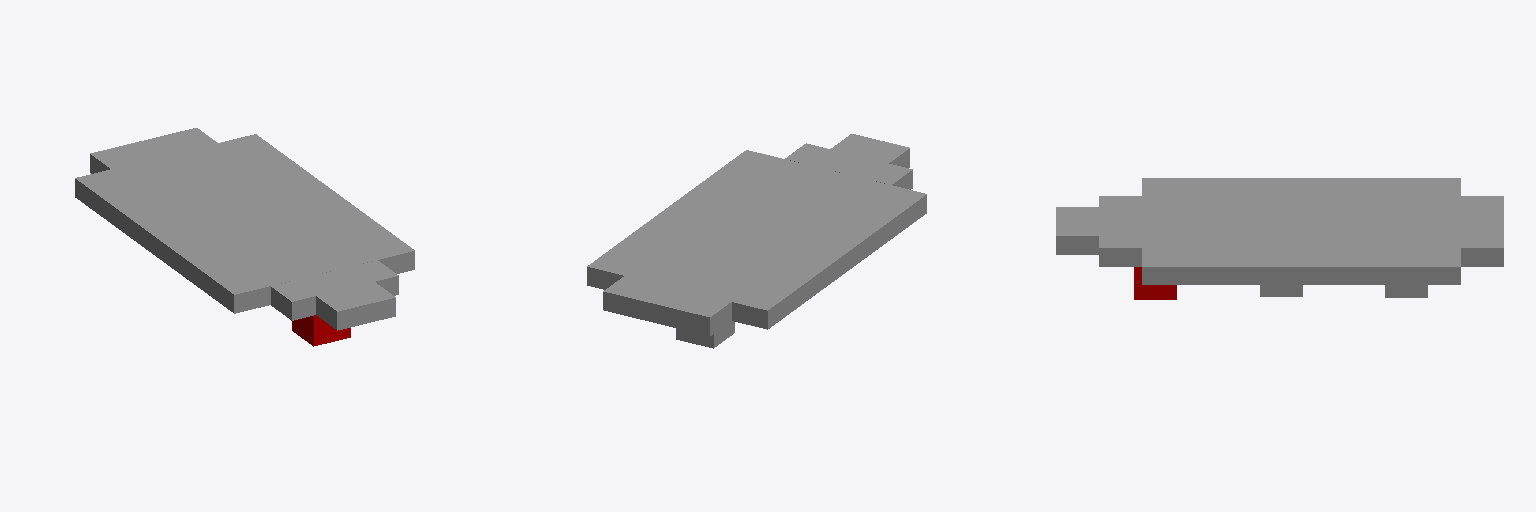
File: hoverboardTest.obj
3 views of the same model, side by side, from view 1: azimuth 30°, elevation 25°; view 2: azimuth 150°, elevation 25°; view 3: azimuth 270°, elevation 25° (orthographic).
Visible parts, largest first — view 1: Cube, Cube.001, Cube.003, Cube.006, Cube.002; view 2: Cube, Cube.006, Cube.001, Cube.003, Cube.004; view 3: Cube, Cube.001, Cube.006, Cube.003, Cube.002, Cube.004.
Part boxes in pixels (left/top/right/bottom): Cube: left=75, top=134, right=414, bottom=313; Cube.001: left=271, top=260, right=398, bottom=320; Cube.003: left=316, top=282, right=395, bottom=330; Cube.006: left=90, top=128, right=216, bottom=173; Cube.002: left=292, top=315, right=350, bottom=346; Cube: left=587, top=150, right=926, bottom=329; Cube.006: left=603, top=276, right=731, bottom=335; Cube.001: left=785, top=143, right=912, bottom=189; Cube.003: left=831, top=134, right=909, bottom=167; Cube.004: left=676, top=321, right=734, bottom=348; Cube: left=1142, top=178, right=1460, bottom=284; Cube.001: left=1099, top=196, right=1141, bottom=266; Cube.006: left=1461, top=196, right=1503, bottom=266; Cube.003: left=1056, top=207, right=1098, bottom=254; Cube.002: left=1134, top=267, right=1176, bottom=299; Cube.004: left=1385, top=285, right=1427, bottom=297.
Size of the model in its own units: 2 by 0.71 by 4.29.